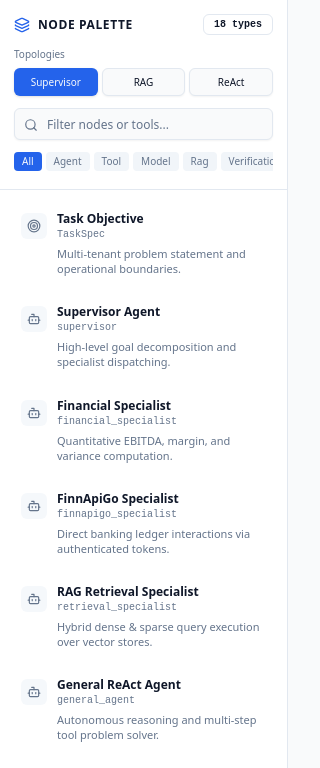
Scenario: Agent Orchestration Canvas Component Suite › NodePalette › filters nodes by search query
The width and height of the screenshot is (320, 768).
Type "Calculator" into the field with placeholder "Filter nodes or tools..." at (144, 124), box top-left (14, 108), bottom-right (273, 140)
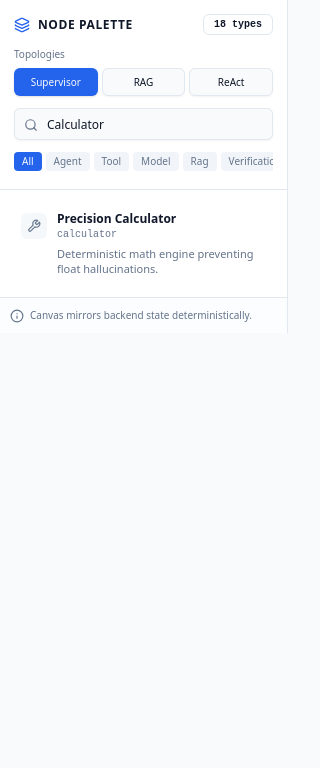
Expected: the text "Precision Calculator" is shown, top-left (57, 211), bottom-right (176, 227)
Expected: the text "Financial Specialist" is gone
